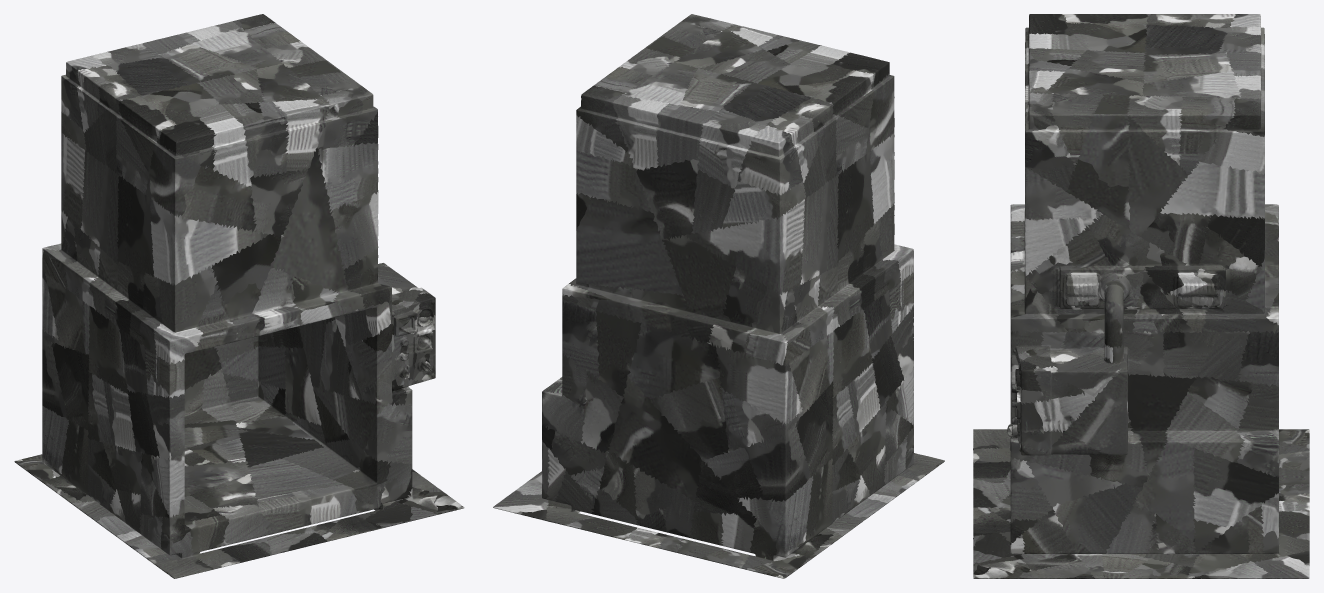
File: Incinerator_Reduce.fbx
The picture shows the model from 3 angles, left to right: view 1: azimuth 30°, elevation 25°; view 2: azimuth 150°, elevation 25°; view 3: azimuth 270°, elevation 25°; orthographic projection. The views are drawn at different scales.
Visible parts, largest first — view 1: Mesh_0; view 2: Mesh_0; view 3: Mesh_0.
Boxes of the visible parts, box(x1,y1,x2,y2) form: Mesh_0: box(14, 14, 464, 578); Mesh_0: box(493, 14, 944, 578); Mesh_0: box(973, 14, 1309, 578).
Bounding box in the file's own units: 141 × 190 × 134.
